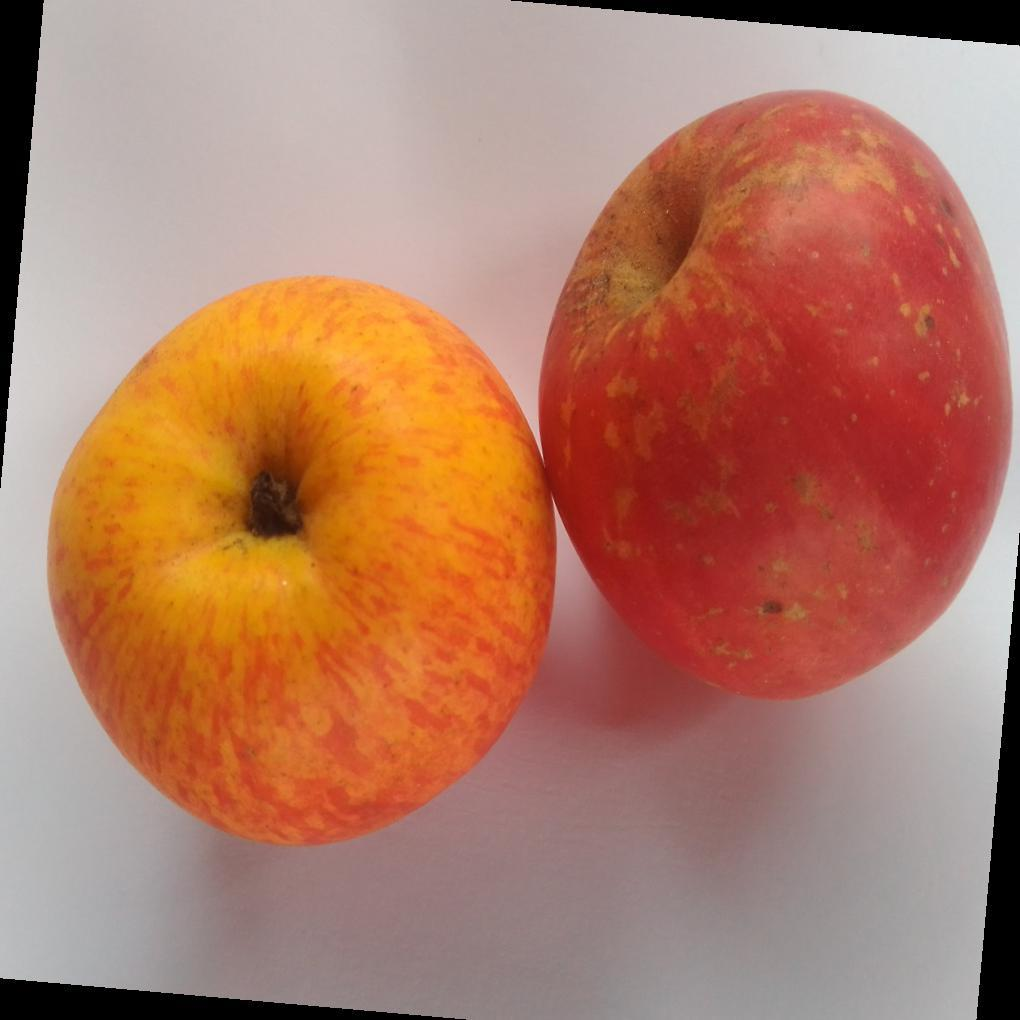FreshGuava: (45, 90, 1013, 852)
